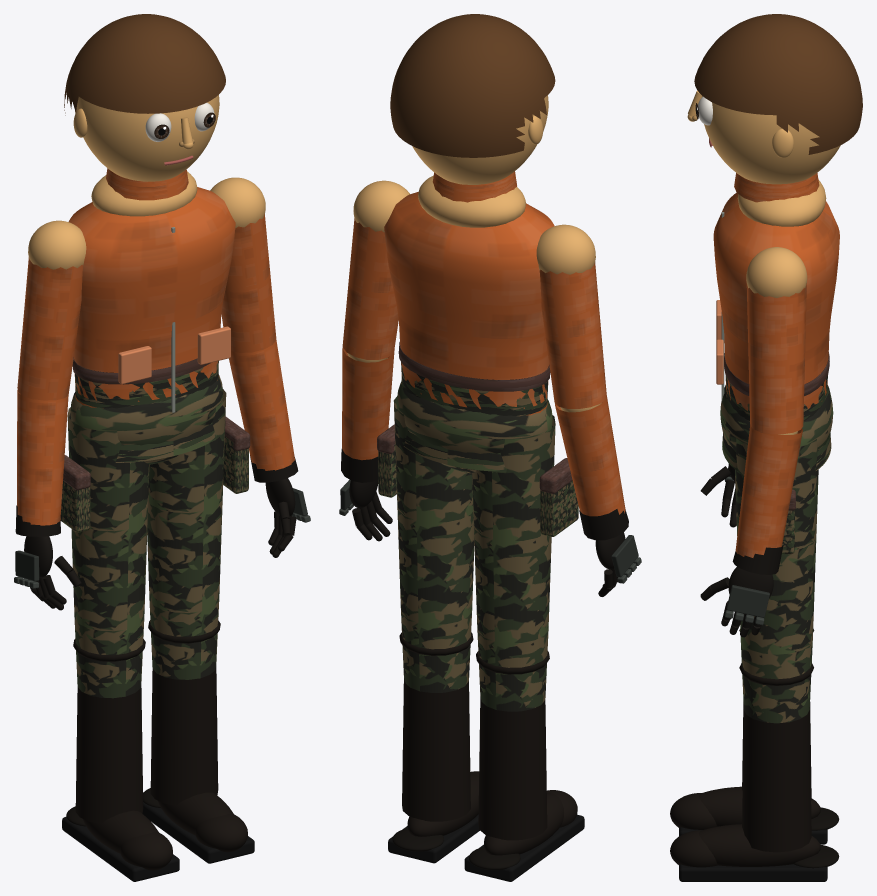
Rendered from 03-bottes-en-caoutchouc.glb.
3 renders of one model, left to right at view 1: azimuth 30°, elevation 25°; view 2: azimuth 150°, elevation 25°; view 3: azimuth 270°, elevation 25°, orthographic. The views are drawn at different scales.
Size of the model in its own units: 0.6344 by 1.76 by 0.3705.
Materials: 23 (4 with a texture image).
